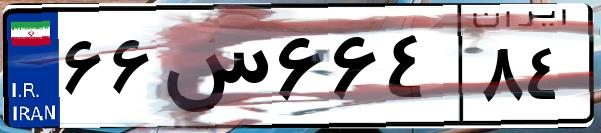4: (385, 28, 445, 110), (525, 38, 570, 115)
6: (270, 28, 330, 110), (330, 28, 385, 110), (57, 26, 110, 100), (110, 28, 158, 98)
8: (475, 38, 525, 113)
س: (158, 20, 270, 120)
